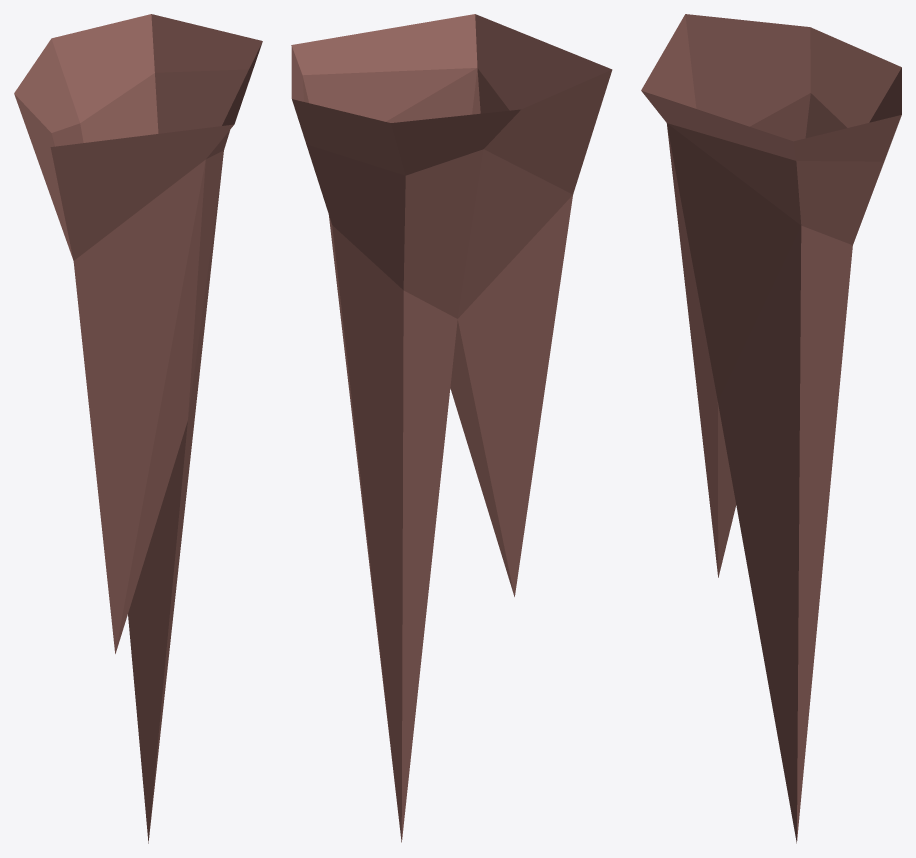
The model's file is Stalacmite-C04.fbx.
The picture shows the model from 3 angles, left to right: view 1: azimuth 30°, elevation 25°; view 2: azimuth 150°, elevation 25°; view 3: azimuth 270°, elevation 25°; orthographic projection. The views are drawn at different scales.
Parts seen in each view (by area): view 1: Stalacmite-C04; view 2: Stalacmite-C04; view 3: Stalacmite-C04.
Part boxes in pixels (left/top/right/bottom): Stalacmite-C04: left=14, top=14, right=262, bottom=843; Stalacmite-C04: left=291, top=14, right=612, bottom=842; Stalacmite-C04: left=641, top=14, right=901, bottom=843.
Bounding box in the file's own units: 99.61 × 276 × 86.27.
